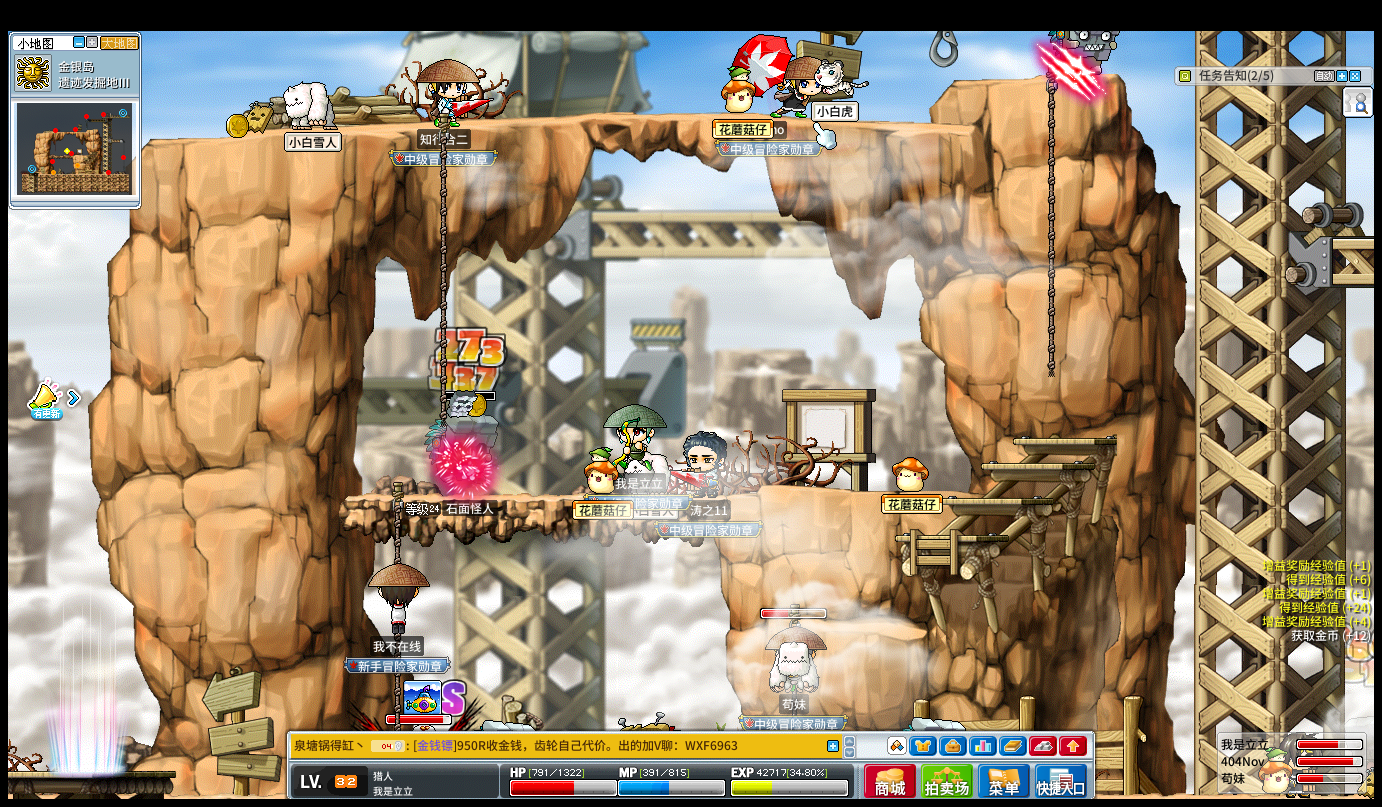floor: (160, 109, 990, 142), (342, 492, 737, 504), (341, 491, 641, 502), (809, 618, 928, 641), (951, 72, 1055, 88), (828, 486, 977, 495), (1011, 436, 1117, 447), (890, 533, 1005, 543), (978, 461, 1092, 469), (940, 496, 1051, 504), (1329, 233, 1379, 244)
monster: (424, 412, 500, 490)
rope: (1044, 62, 1058, 377), (438, 115, 448, 427), (390, 481, 404, 565)
